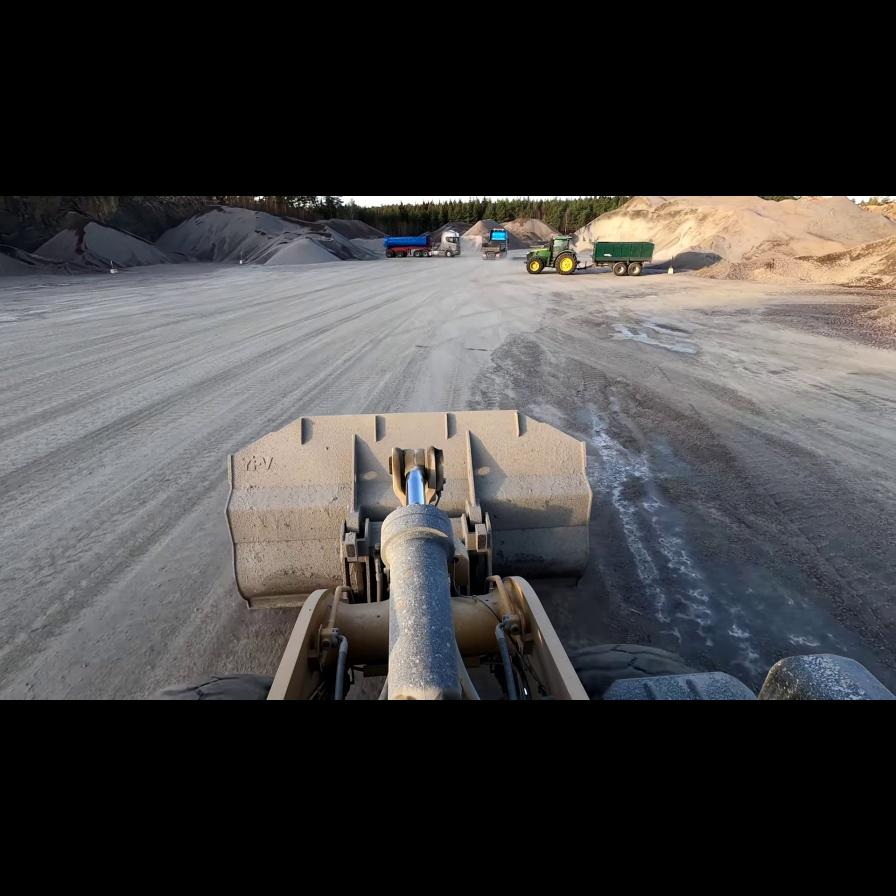anchor: (389, 446, 443, 508)
pile of gravel: (581, 196, 888, 282), (160, 205, 370, 265), (5, 217, 176, 273), (458, 213, 560, 239)
